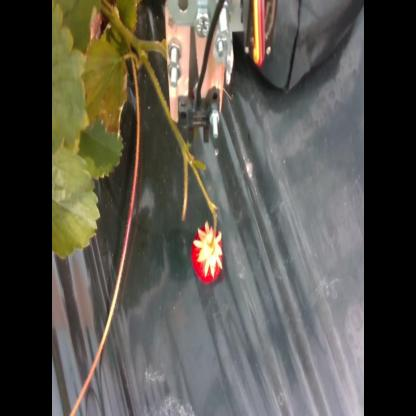ripe: (188, 224, 232, 288)
